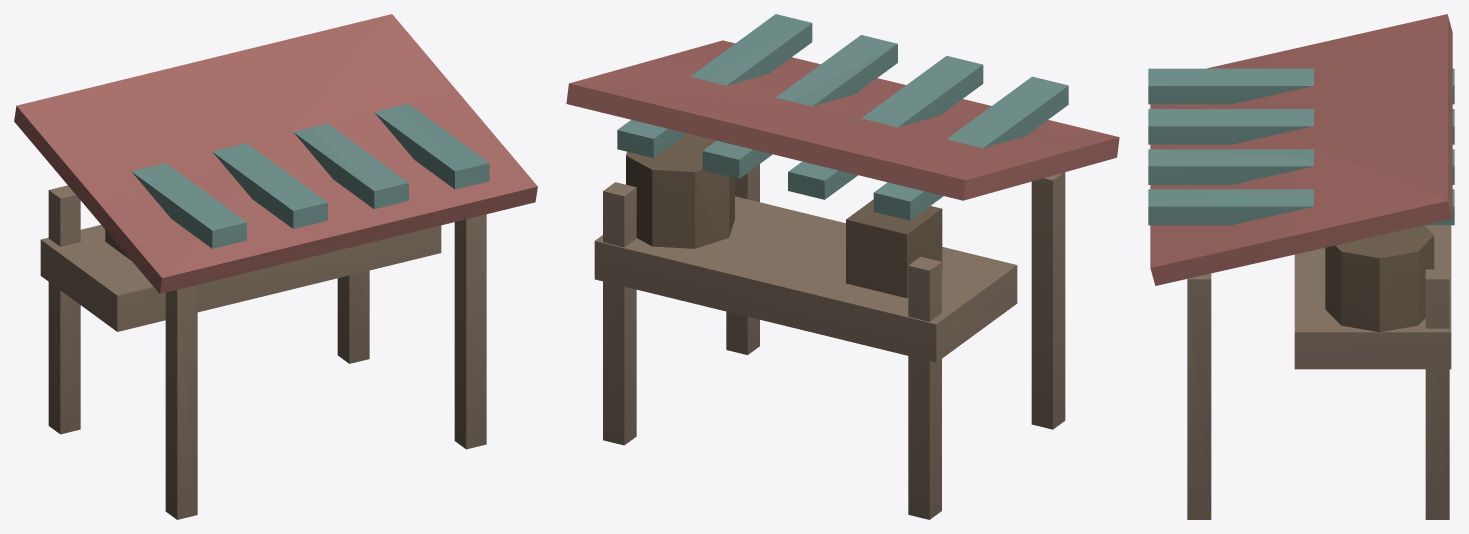
The model's file is market_stall.glb.
3 views of the same model, side by side, from view 1: azimuth 30°, elevation 25°; view 2: azimuth 150°, elevation 25°; view 3: azimuth 270°, elevation 25° (orthographic). The views are drawn at different scales.
Visible parts, largest first — view 1: market_stall; view 2: market_stall; view 3: market_stall.
Part boxes in pixels (x1=…): market_stall: x1=14, y1=14, x2=537, y2=519; market_stall: x1=566, y1=14, x2=1119, y2=519; market_stall: x1=1148, y1=14, x2=1454, y2=519.
Size of the model in its own units: 1.3 by 1.09 by 0.9.
